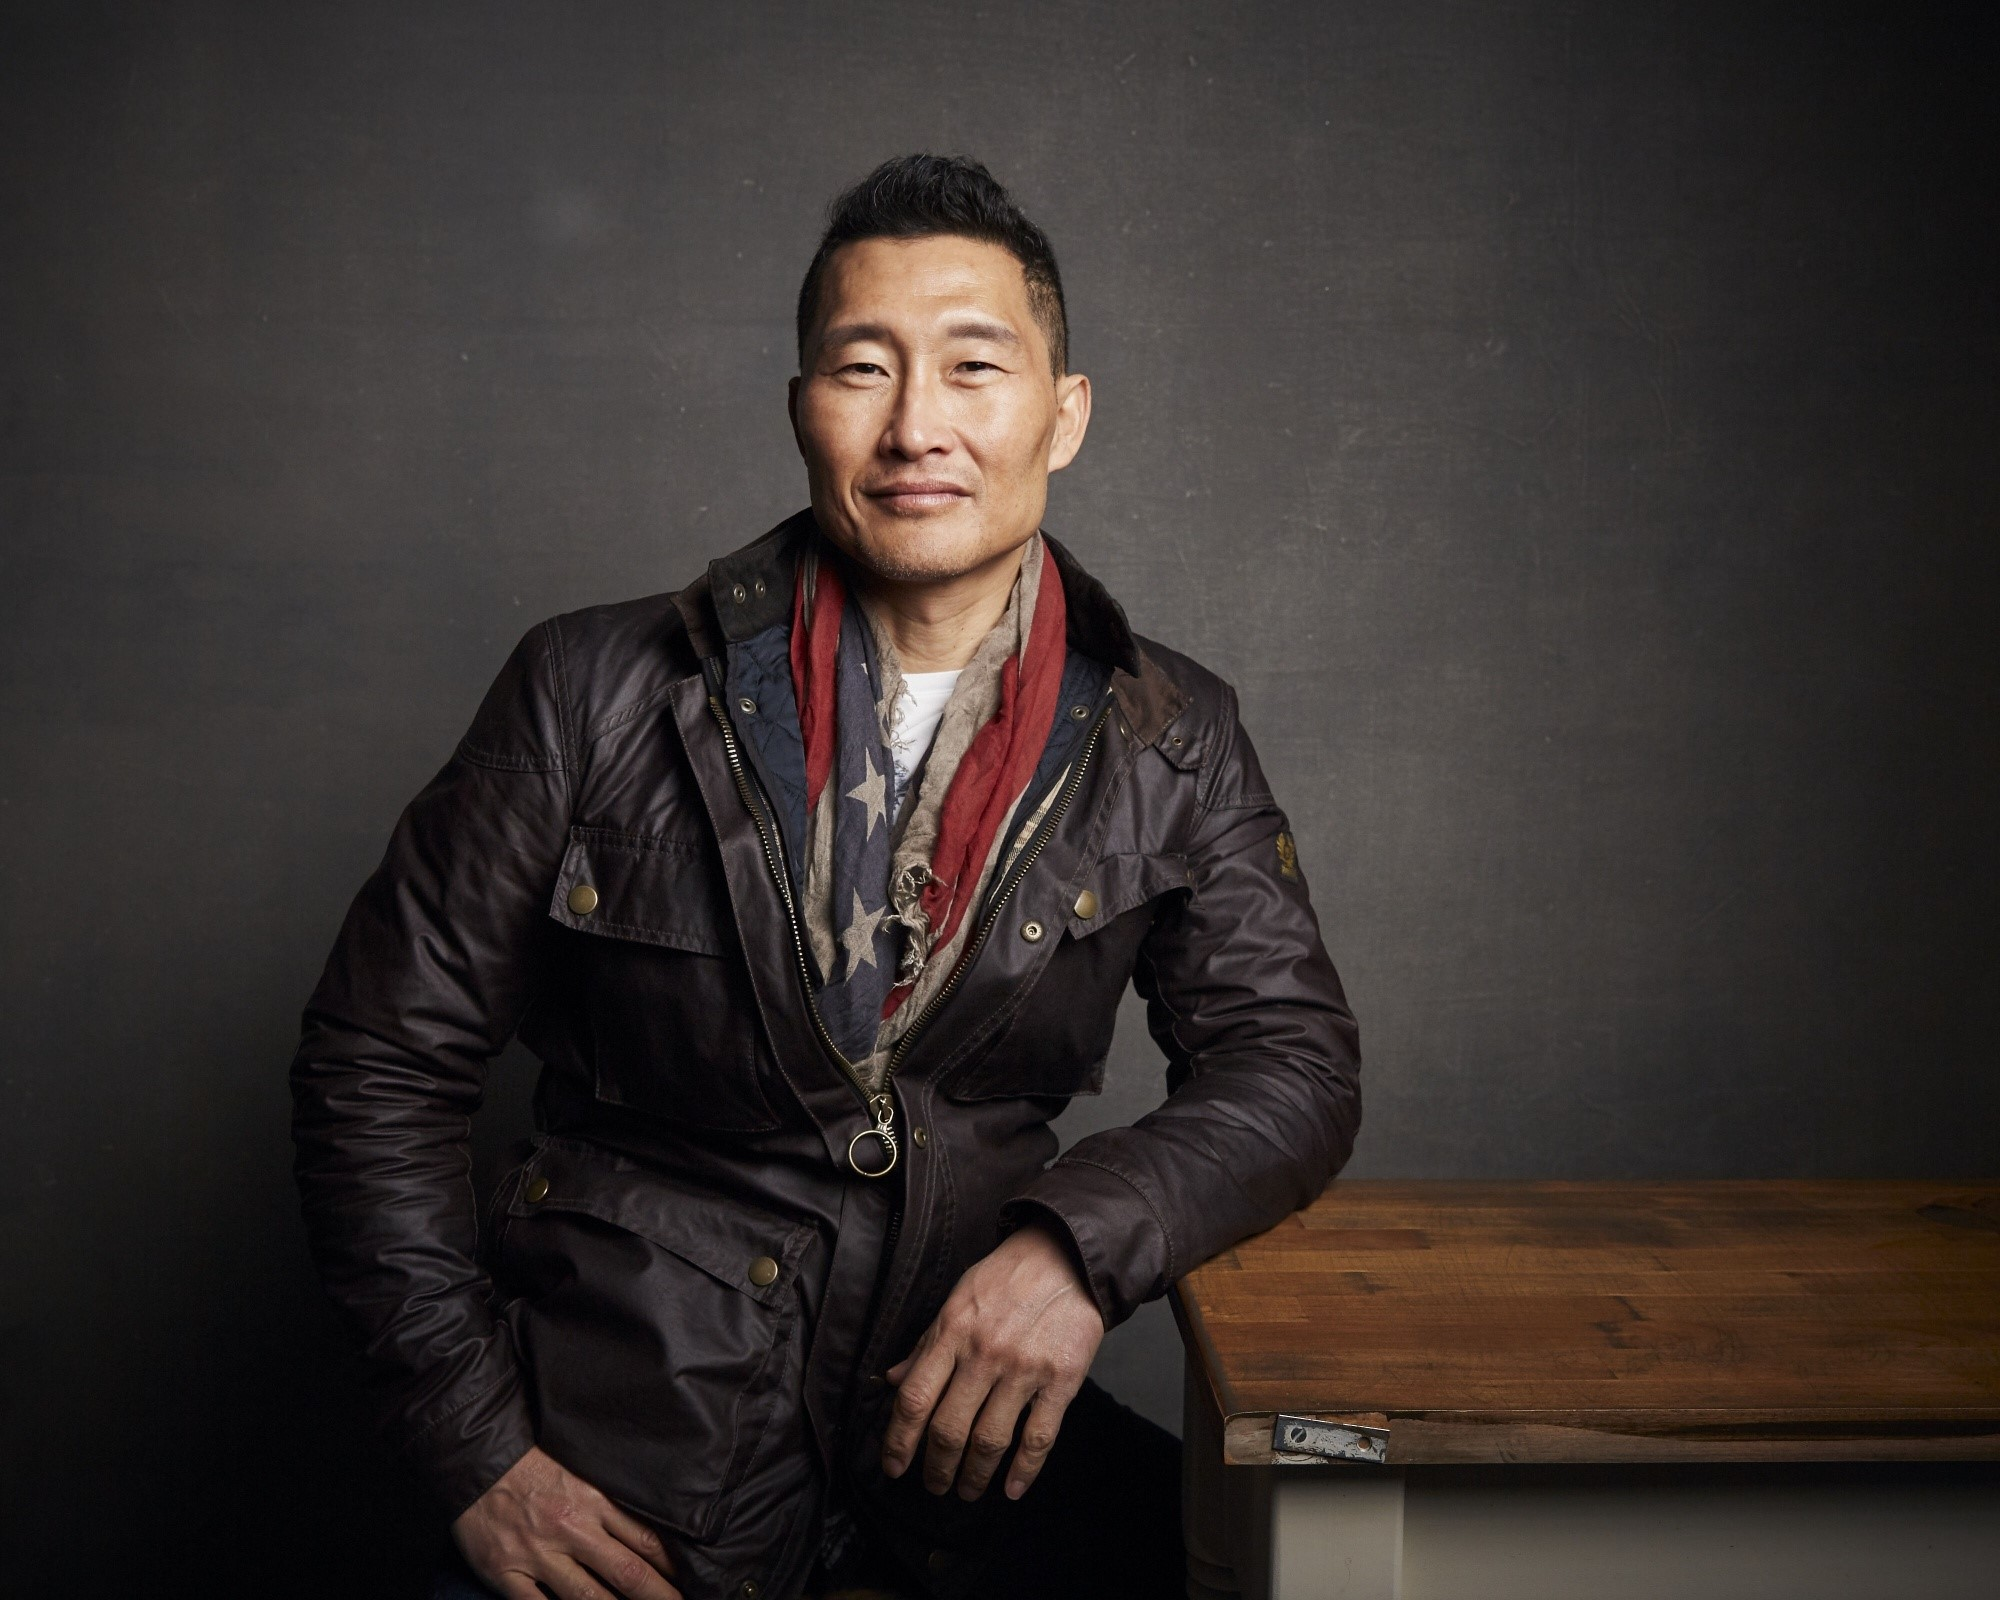face_no_mask: (786, 154, 1092, 586)
